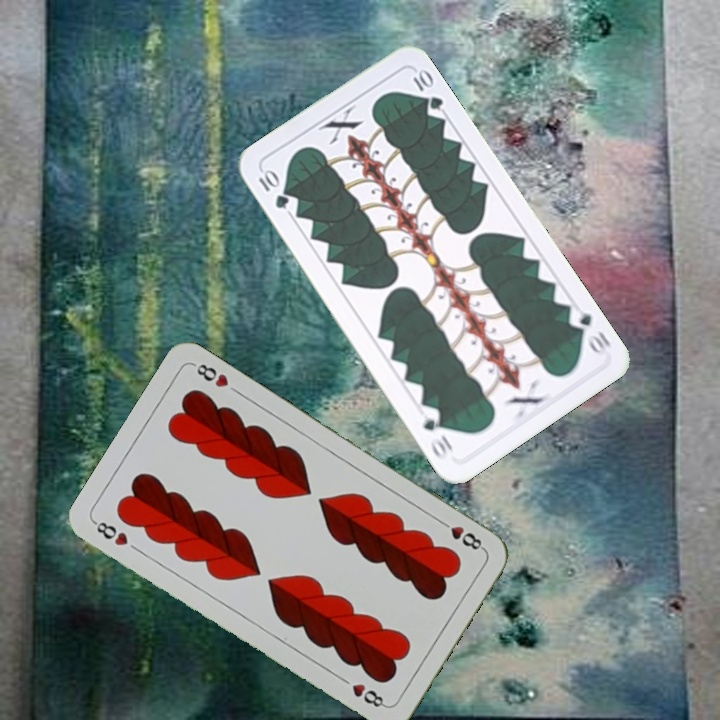G10: (564, 303, 613, 359), (254, 165, 292, 212)
H8: (433, 515, 486, 553), (90, 517, 131, 549)
